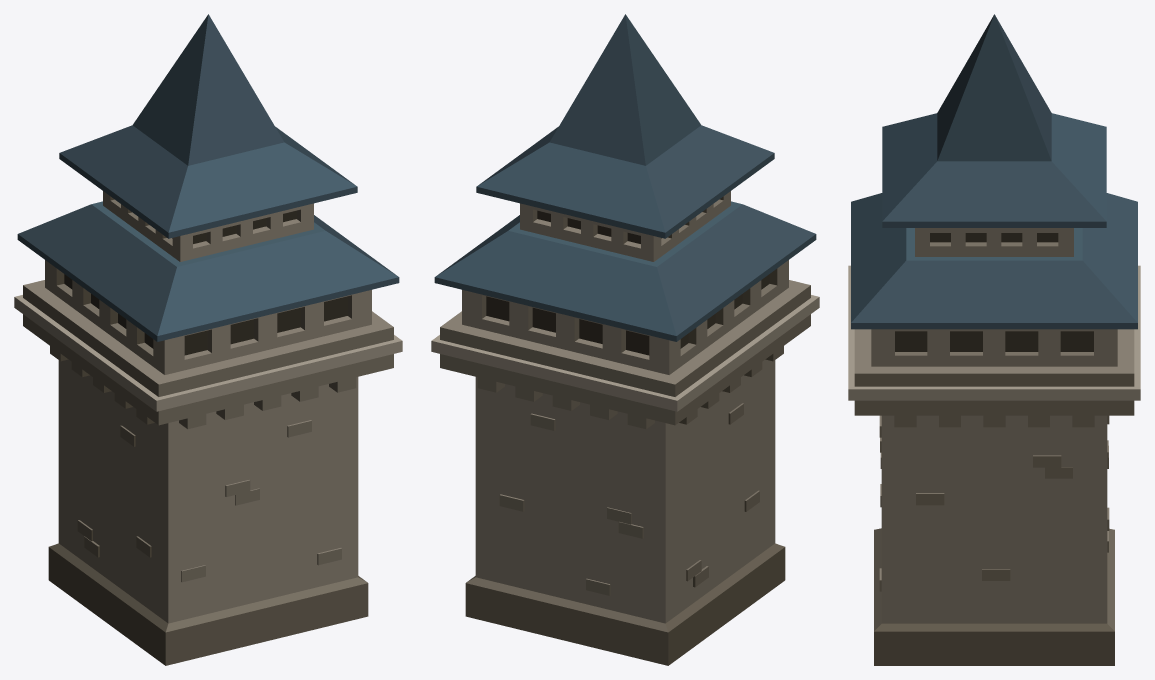
File: SF_Bld_Castle_Tower_01.fbx
The picture shows the model from 3 angles, left to right: view 1: azimuth 30°, elevation 25°; view 2: azimuth 150°, elevation 25°; view 3: azimuth 270°, elevation 25°; orthographic projection. The views are drawn at different scales.
Visible parts, largest first — view 1: SF_Bld_Castle_Tower_01; view 2: SF_Bld_Castle_Tower_01; view 3: SF_Bld_Castle_Tower_01.
Part boxes in pixels (<box>): SF_Bld_Castle_Tower_01: <box>14,14,402,665</box>; SF_Bld_Castle_Tower_01: <box>431,14,819,665</box>; SF_Bld_Castle_Tower_01: <box>848,14,1140,665</box>.
Size of the model in its own units: 12.85 by 29.17 by 12.85.
